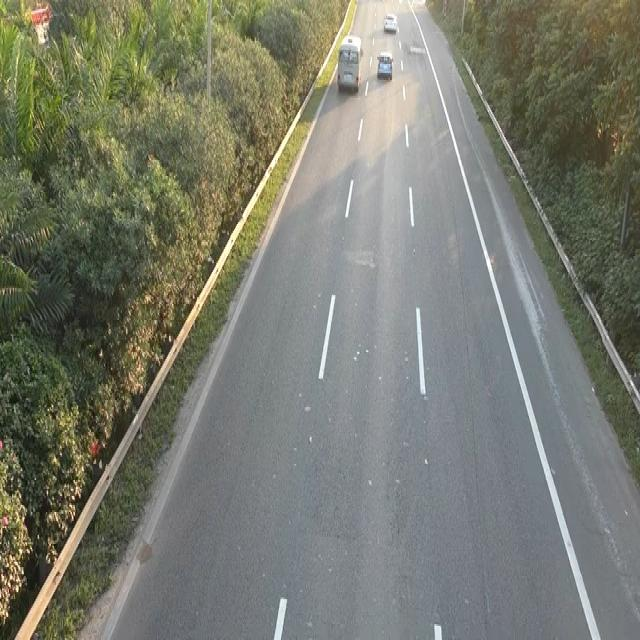bus: (376, 48, 394, 80), (382, 11, 398, 32)
jeep: (335, 34, 362, 94)
